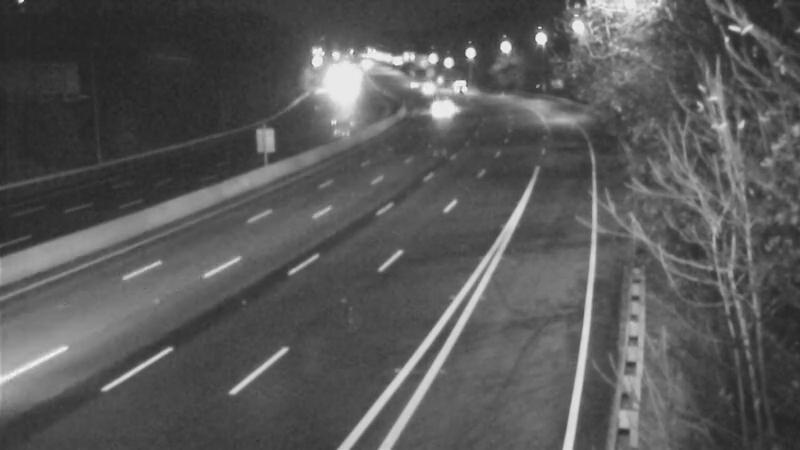vehicle: (434, 61, 484, 111), (404, 61, 454, 111), (421, 81, 471, 131), (315, 68, 365, 118)
